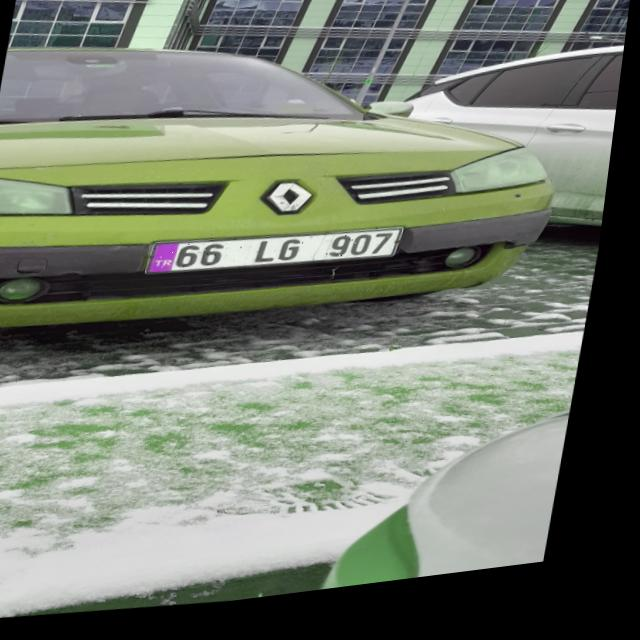license_plate: (151, 224, 412, 292)
